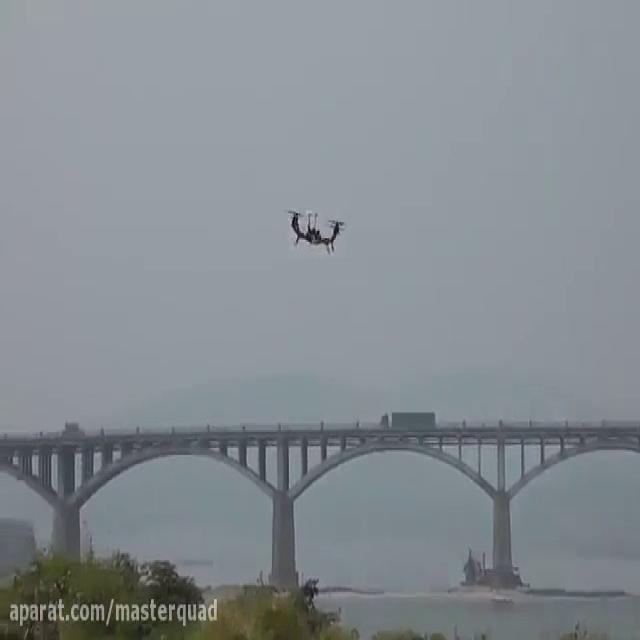drone: (280, 204, 347, 256)
